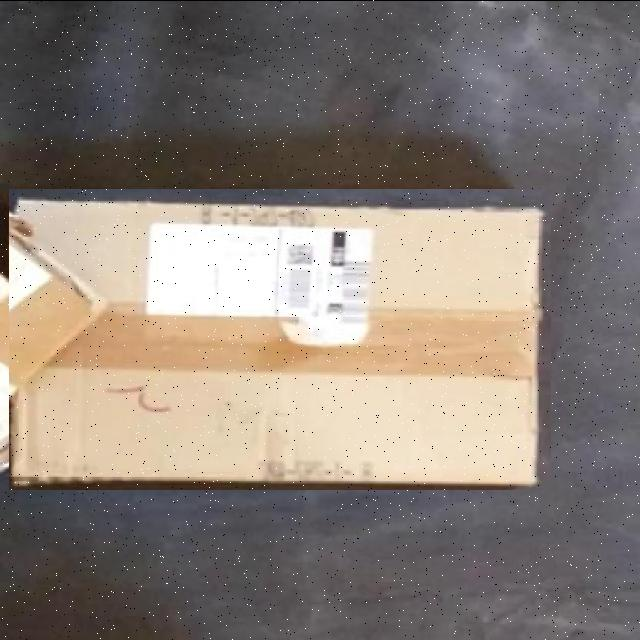normal: (9, 188, 551, 489)
